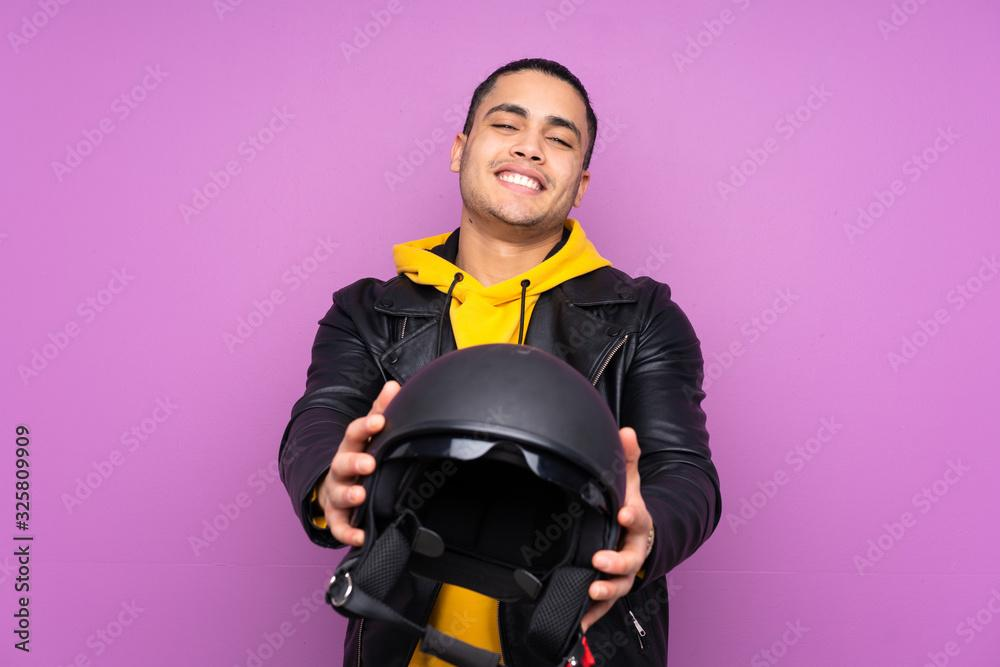helmet: (324, 341, 629, 667)
nohelmet: (449, 56, 599, 248)
